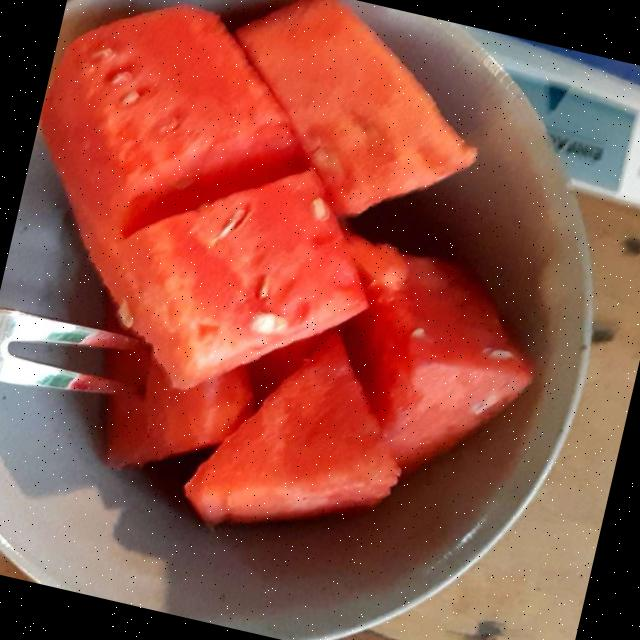watermelon-fresh: (62, 4, 517, 528)
